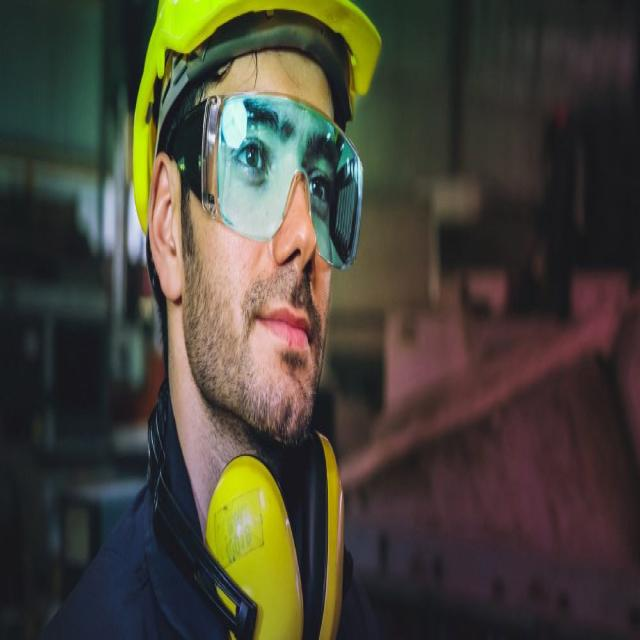glasses: (198, 88, 365, 277)
